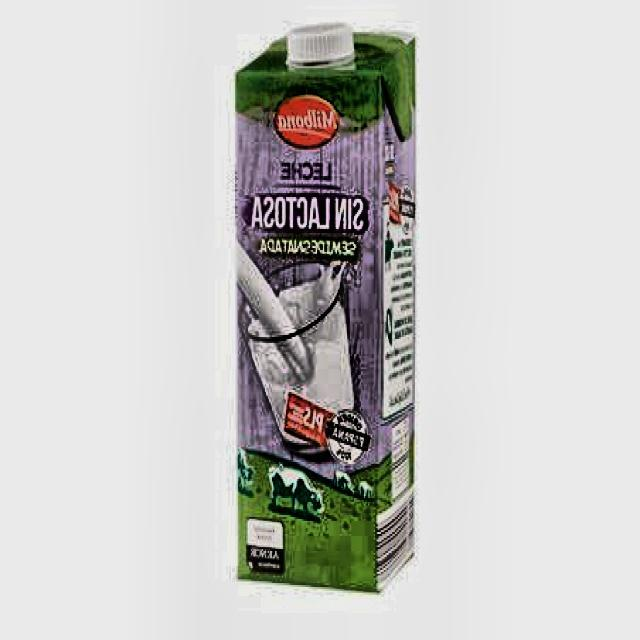cardboard: (235, 20, 418, 592)
